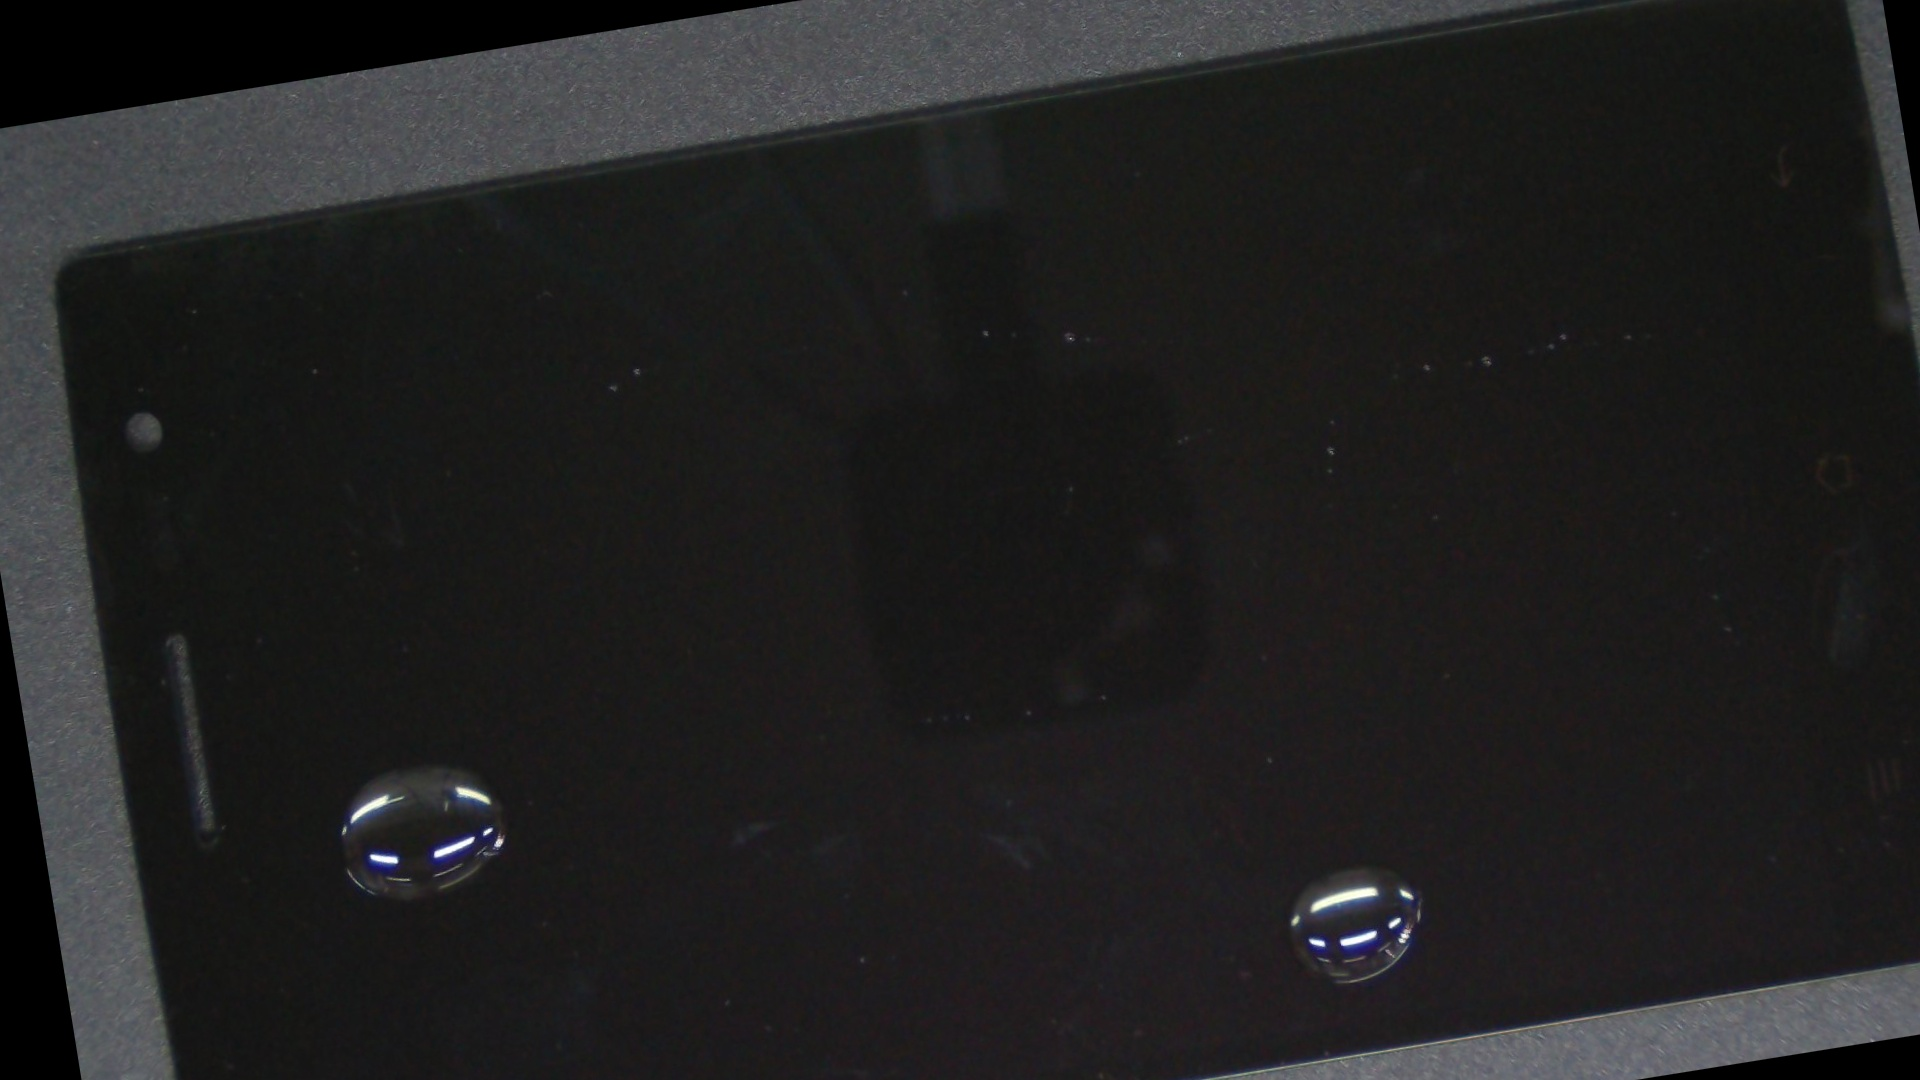oil: (632, 303, 1920, 1080), (162, 399, 622, 1080)
